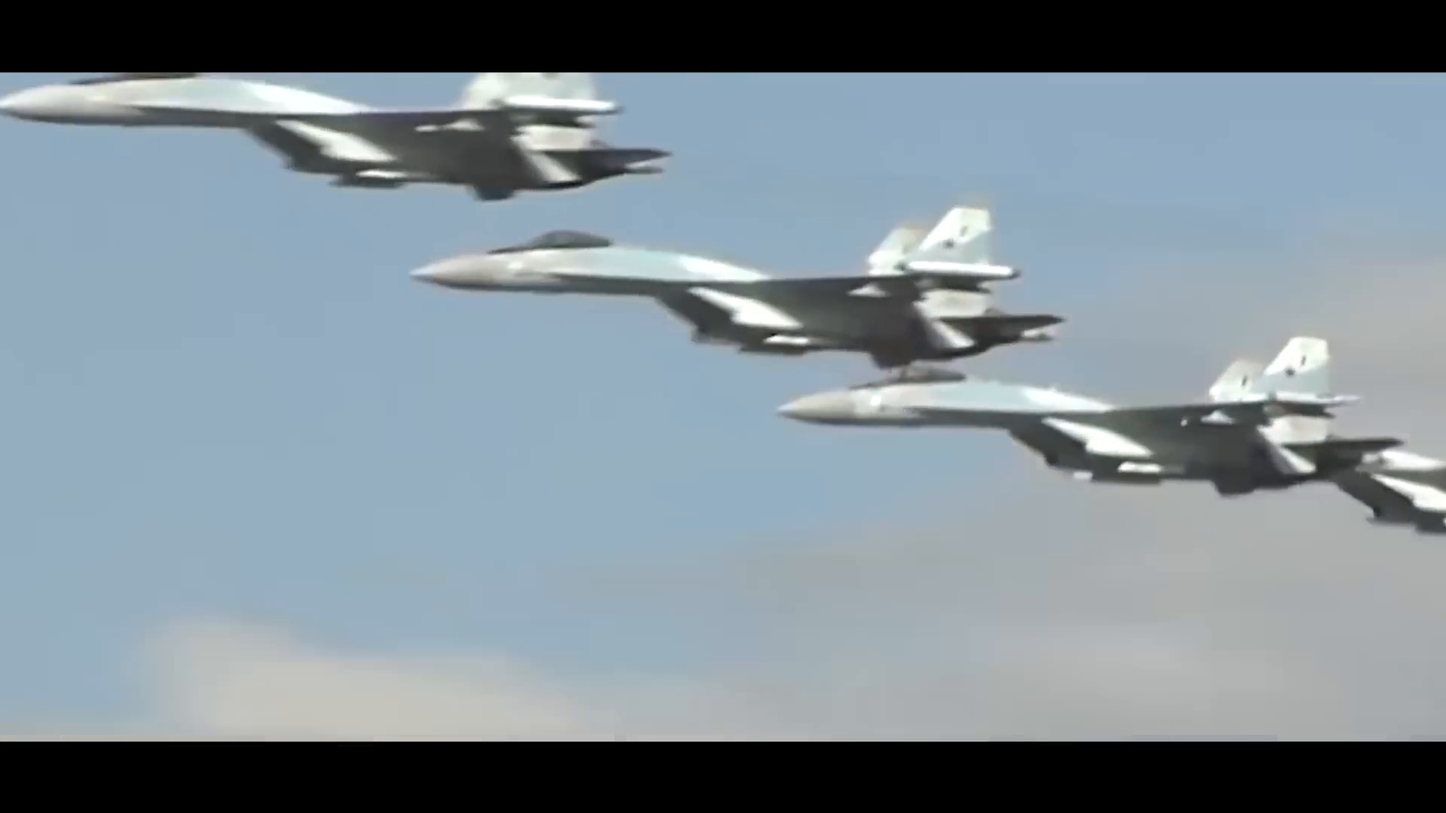Su35: (411, 195, 1065, 369), (776, 335, 1403, 496), (0, 73, 668, 200)
